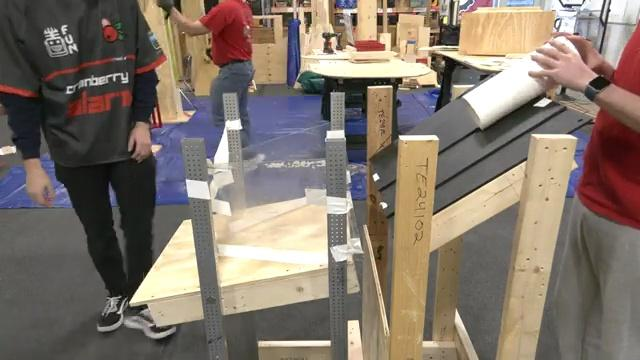CORAL: (461, 53, 548, 130)
